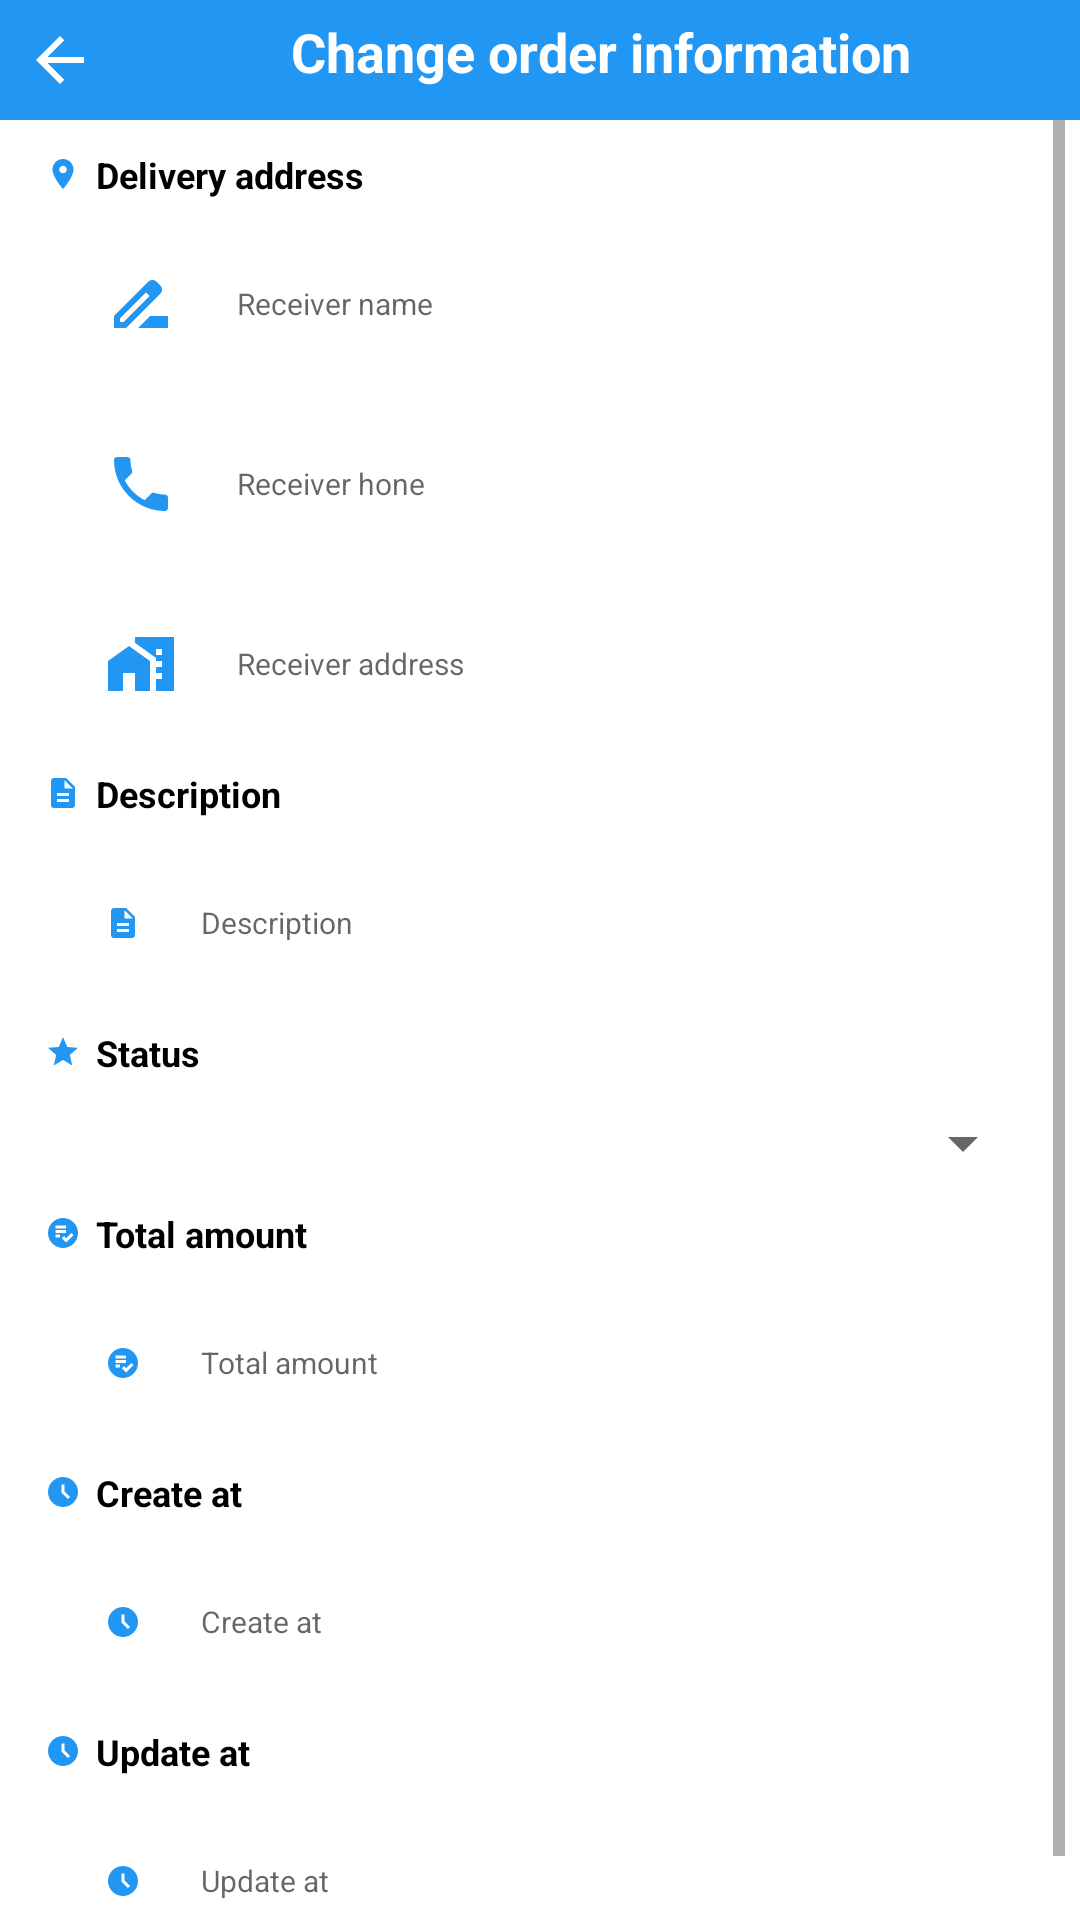

Named icons in this screenshot (1080px x 1920px) and their centers, [x,y]:
arrow back: [60,60]
